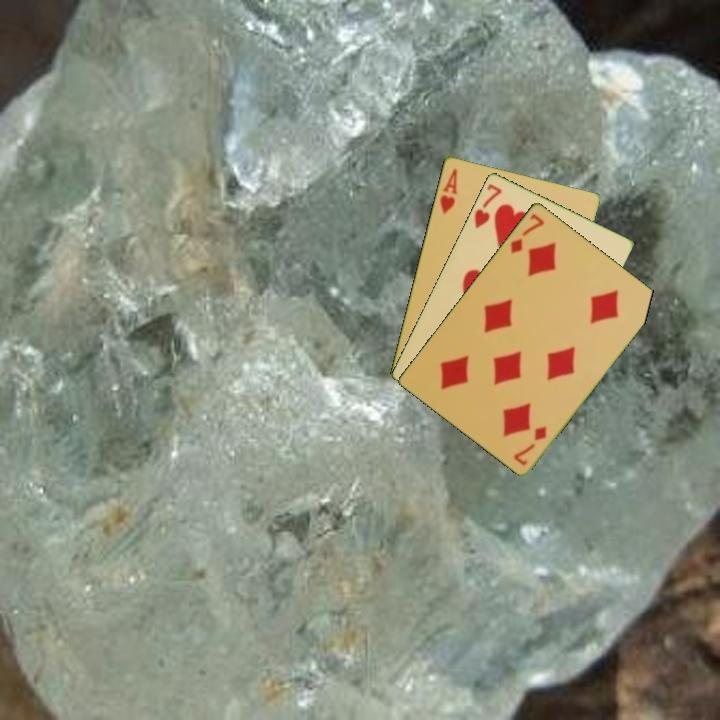7d: (507, 210, 547, 256), (510, 422, 550, 468)
7h: (470, 180, 504, 231)
Ah: (436, 165, 460, 216)
